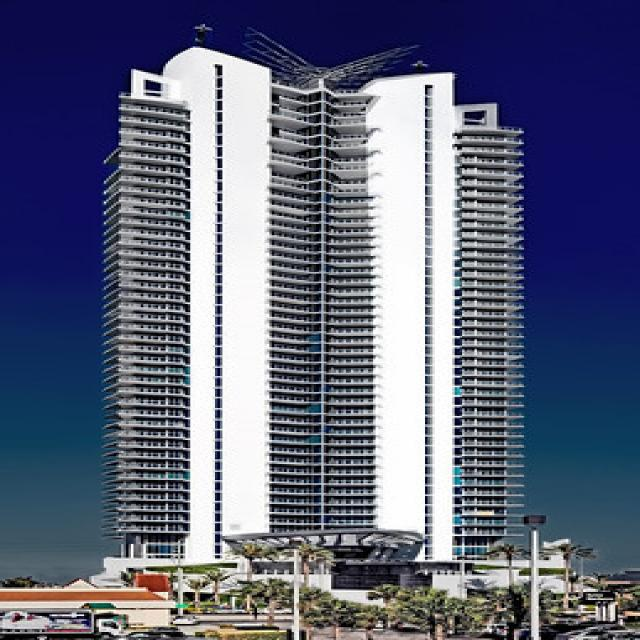Normal_building: (89, 16, 534, 581)
